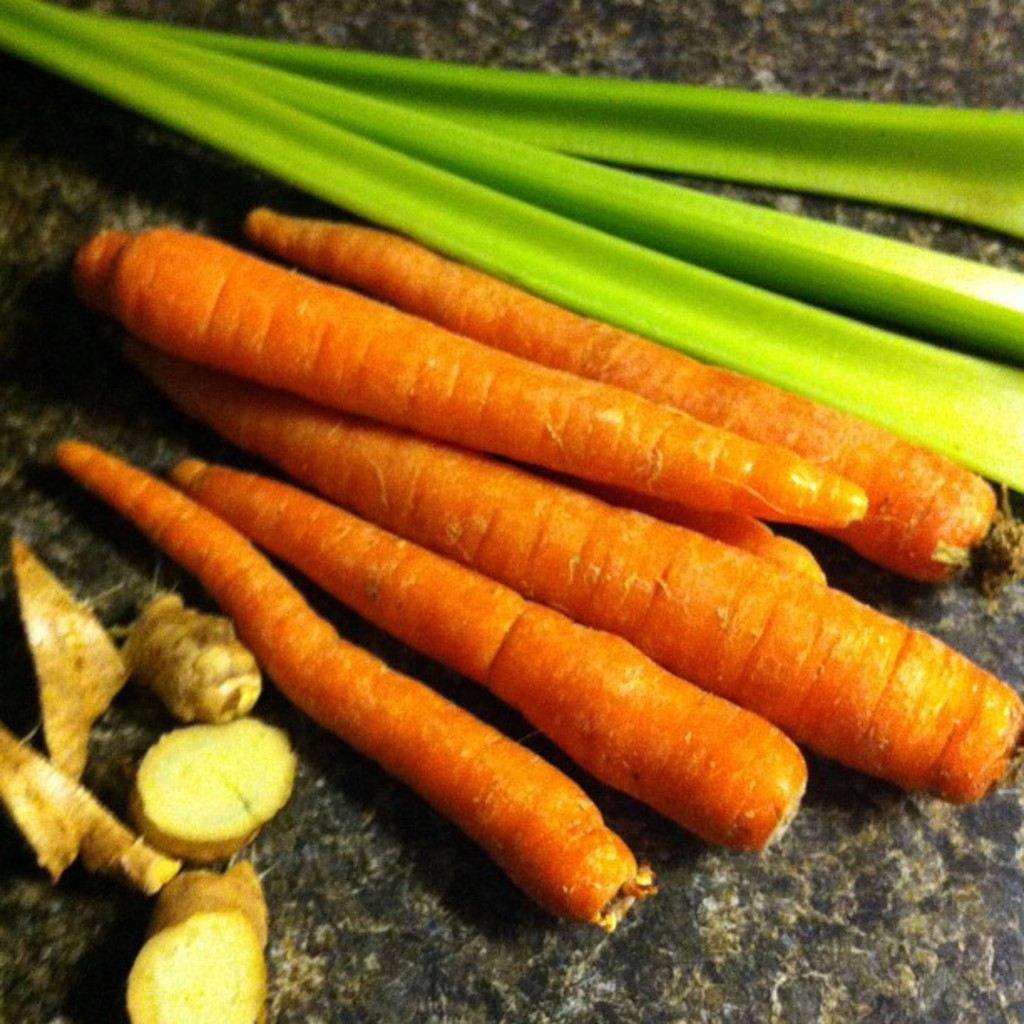Carrot: (53, 203, 1024, 933)
